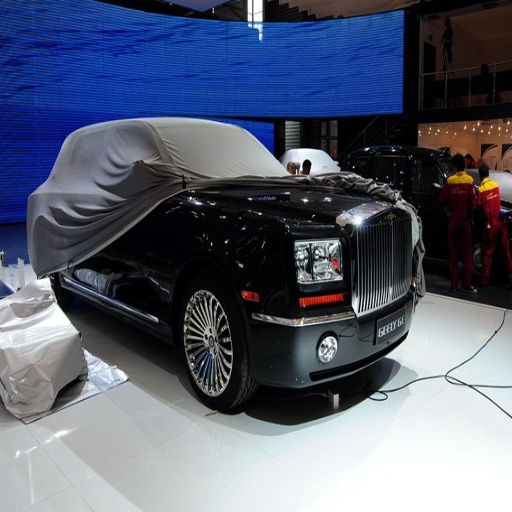back_bumper: (254, 305, 409, 349)
tailgate: (268, 182, 404, 300)
trunk: (296, 244, 409, 319)
